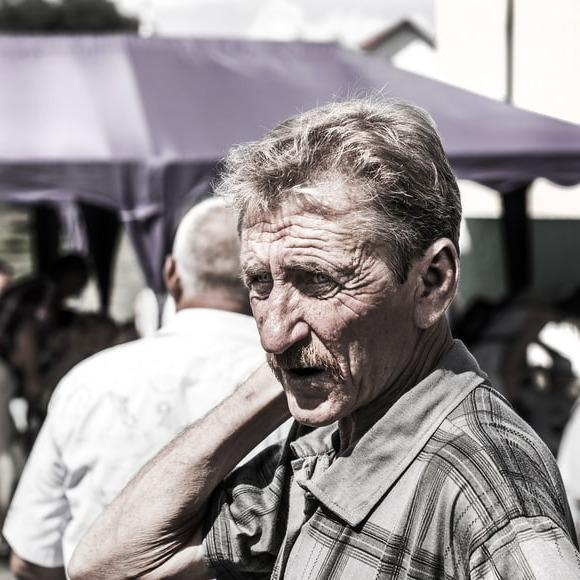Wrinkles: (264, 224, 351, 235), (293, 255, 340, 268), (354, 281, 387, 295), (271, 235, 326, 243), (334, 297, 358, 315), (341, 293, 370, 304), (288, 246, 328, 251)
